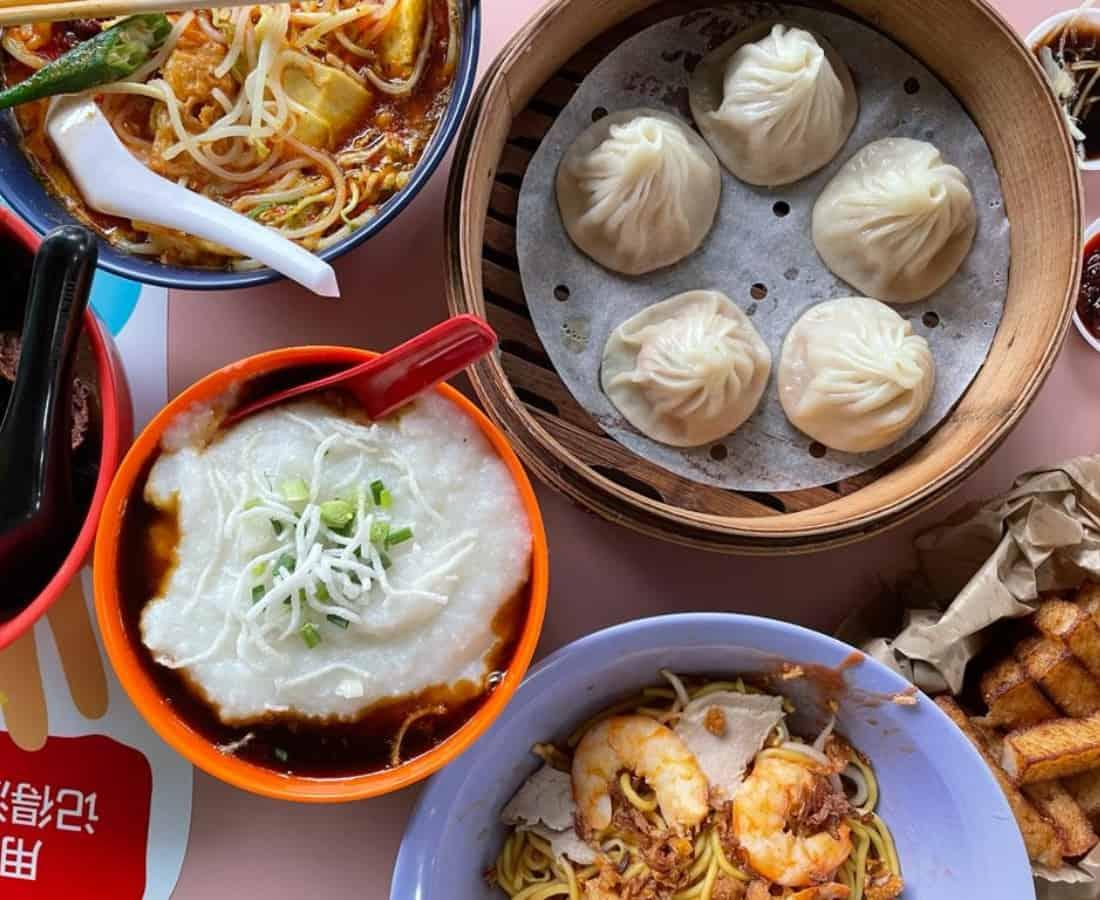Braised Crucian Carp: (447, 4, 1068, 548), (89, 346, 532, 797), (393, 611, 1035, 893), (0, 0, 475, 291)
